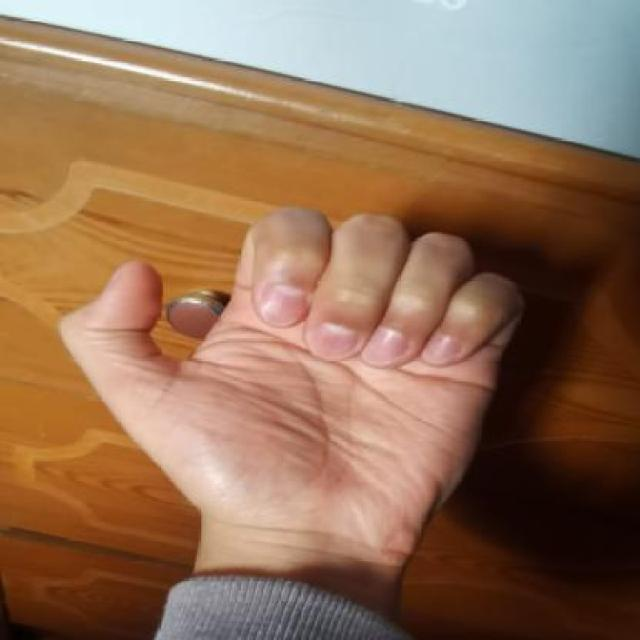E: (43, 186, 532, 565)
